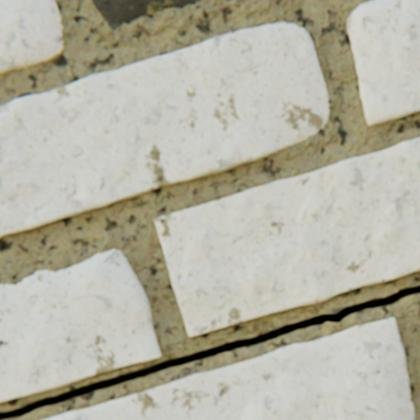brick: (0, 24, 328, 238), (155, 139, 419, 337), (44, 317, 414, 419), (0, 250, 161, 402), (347, 0, 419, 127), (0, 0, 64, 75), (93, 0, 197, 31)
crack: (0, 285, 419, 419)
